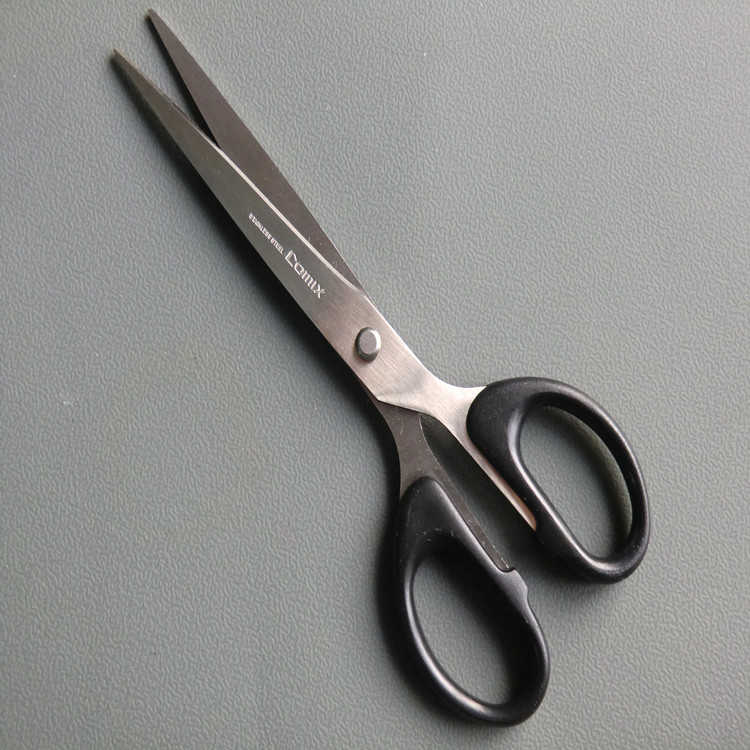scissor: (117, 26, 641, 666)
